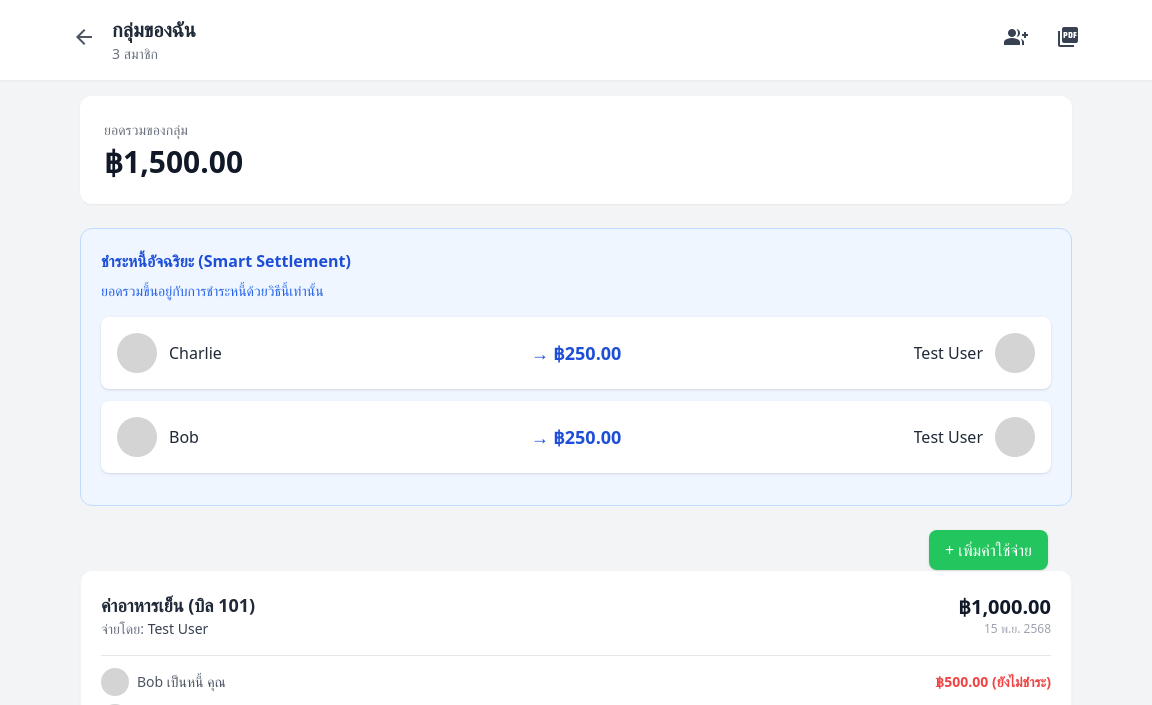
Test: Bill Page Flow (/bill/:groupId) › ควรเปิด Modal เพิ่มผู้เข้าร่วม และเพิ่มสมาชิกใหม่ได้
The width and height of the screenshot is (1152, 705).
// Act: คลิกปุ่มเปิด Modal
Click the 2nd button "group_add" at (1016, 40), box top-left (996, 17), bottom-right (1036, 63)
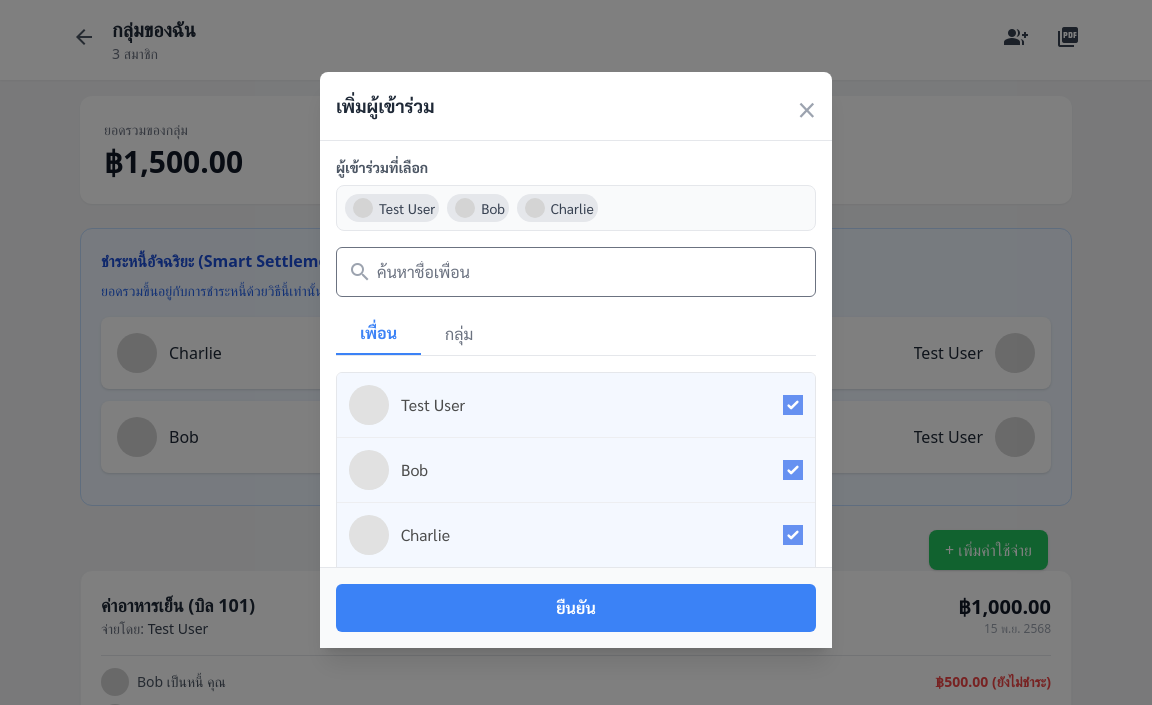
Check: the heading "เพิ่มผู้เข้าร่วม" is shown, box top-left (336, 92), bottom-right (435, 120)
Scroll
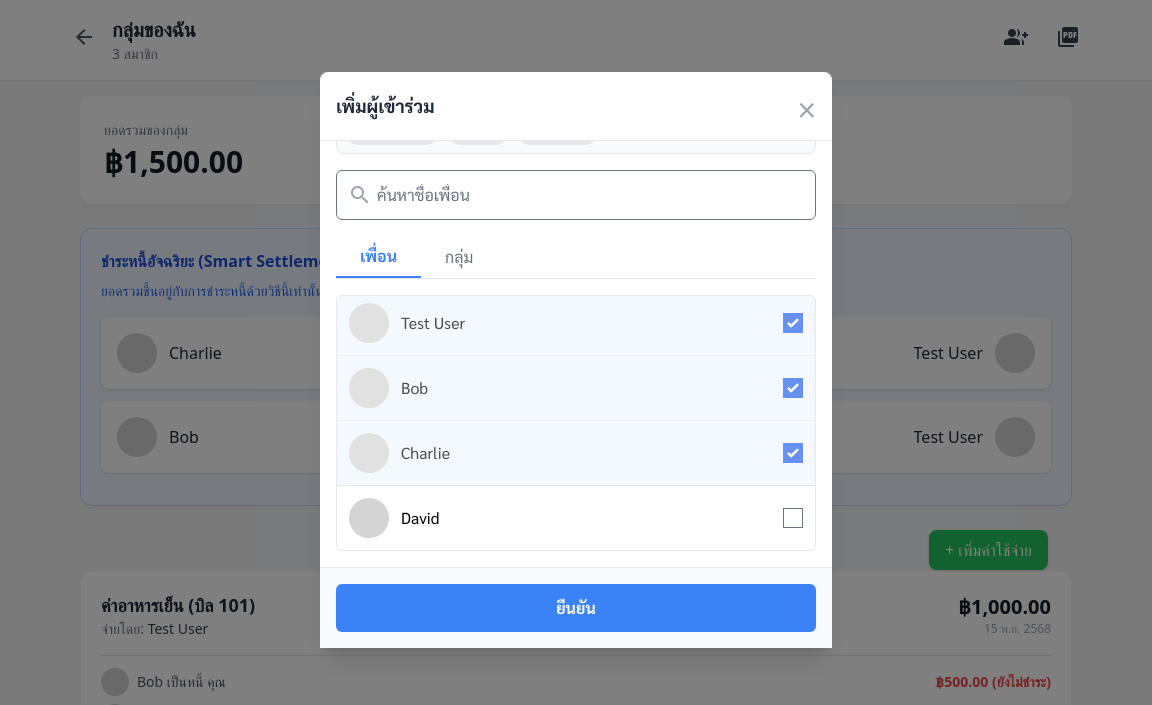
Check the checkbox labelled "David" at (793, 518), box top-left (783, 508), bottom-right (803, 528)
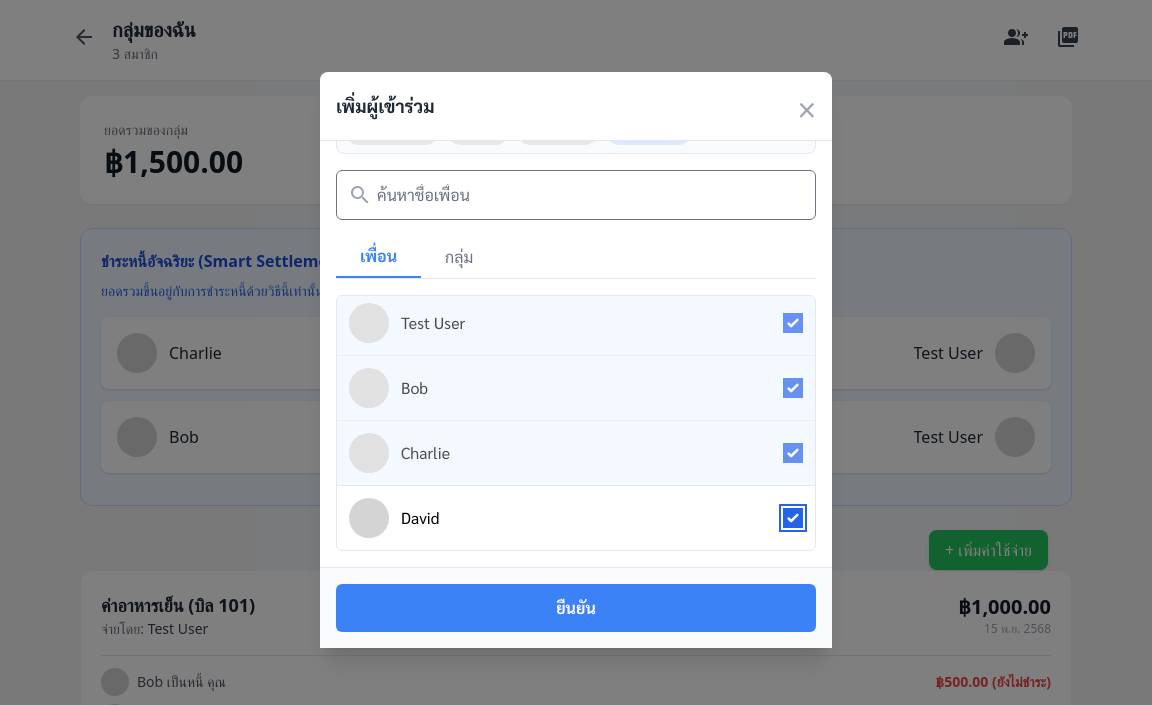
// Act: กดยืนยัน
Click the button "ยืนยัน" at (576, 608), box top-left (336, 584), bottom-right (816, 632)
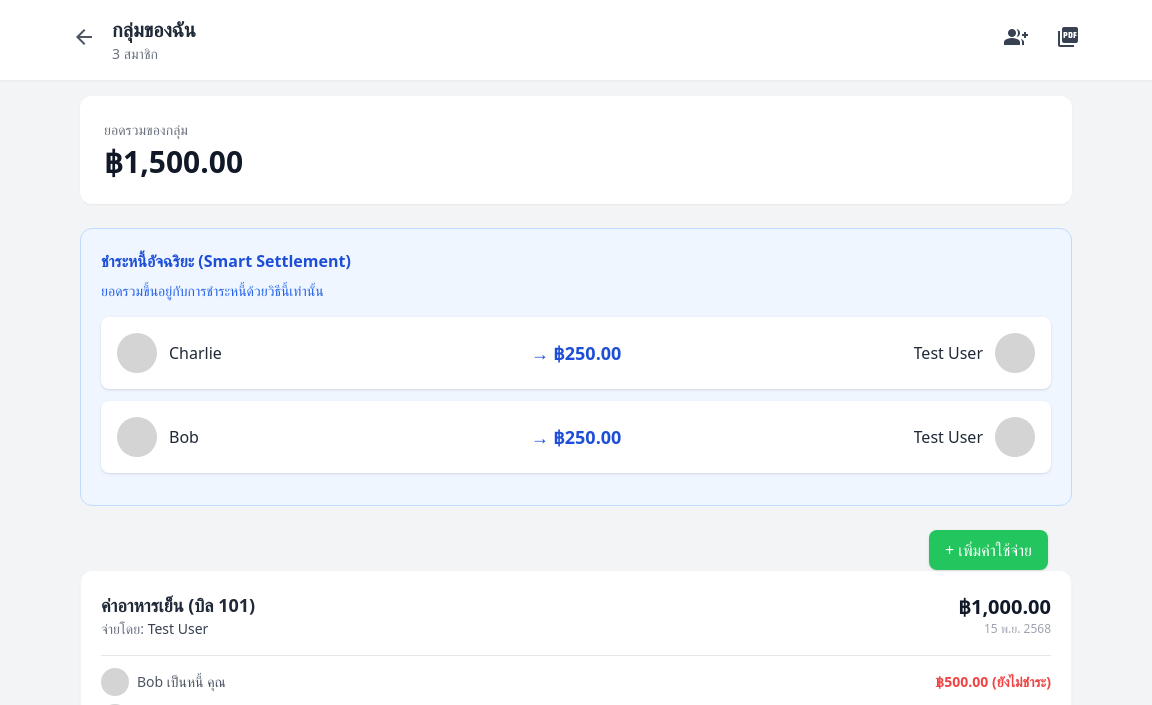
Check: the heading "เพิ่มผู้เข้าร่วม" is gone
